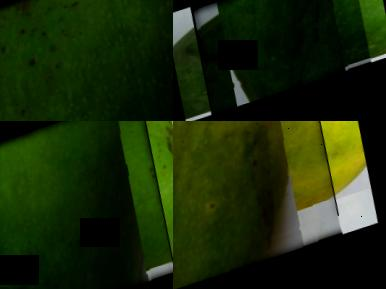PartiallyRipe: (173, 121, 355, 289)
Unripe: (0, 121, 173, 289), (181, 0, 378, 116), (0, 0, 173, 121)
